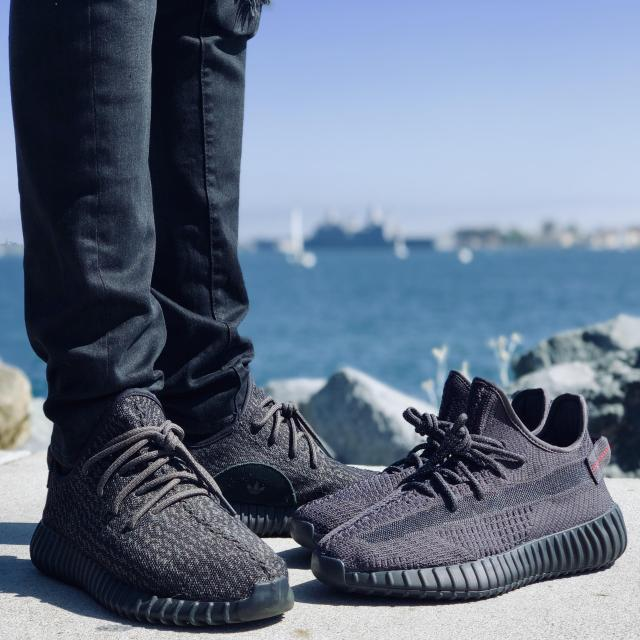shoe: (309, 388, 628, 599), (25, 404, 295, 627)
